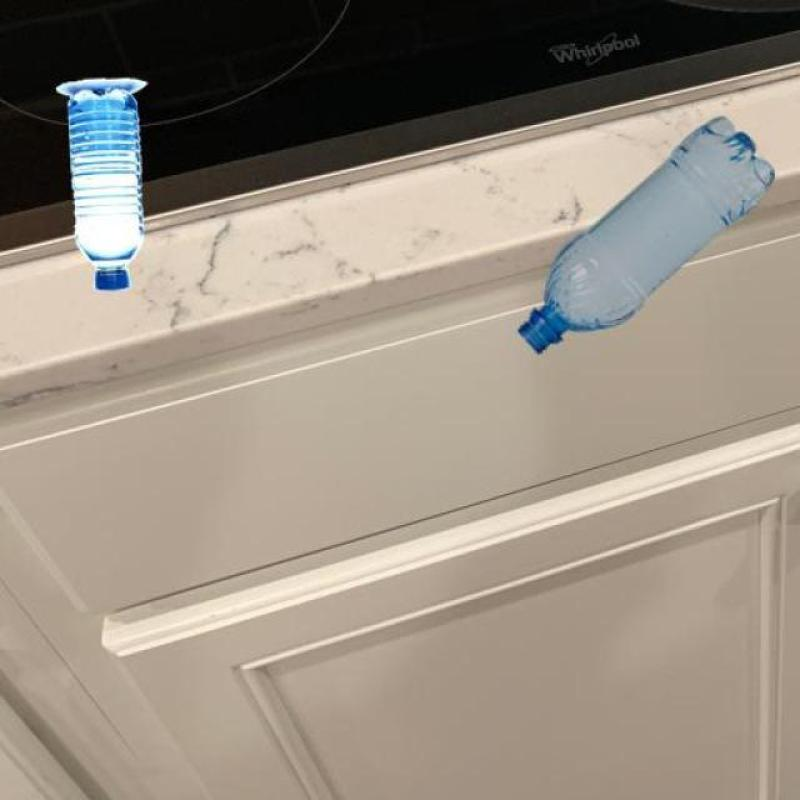botella: (519, 113, 781, 357), (52, 83, 150, 293)
